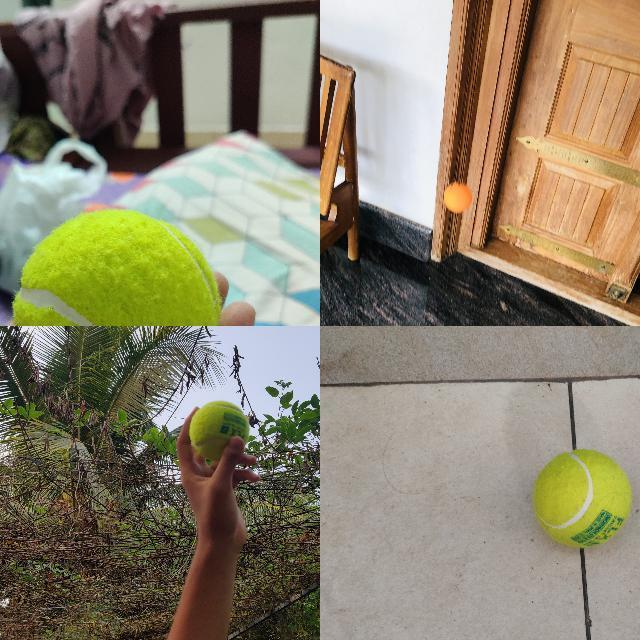tennis-ball: (12, 207, 222, 325), (532, 448, 632, 546), (188, 400, 250, 462)
